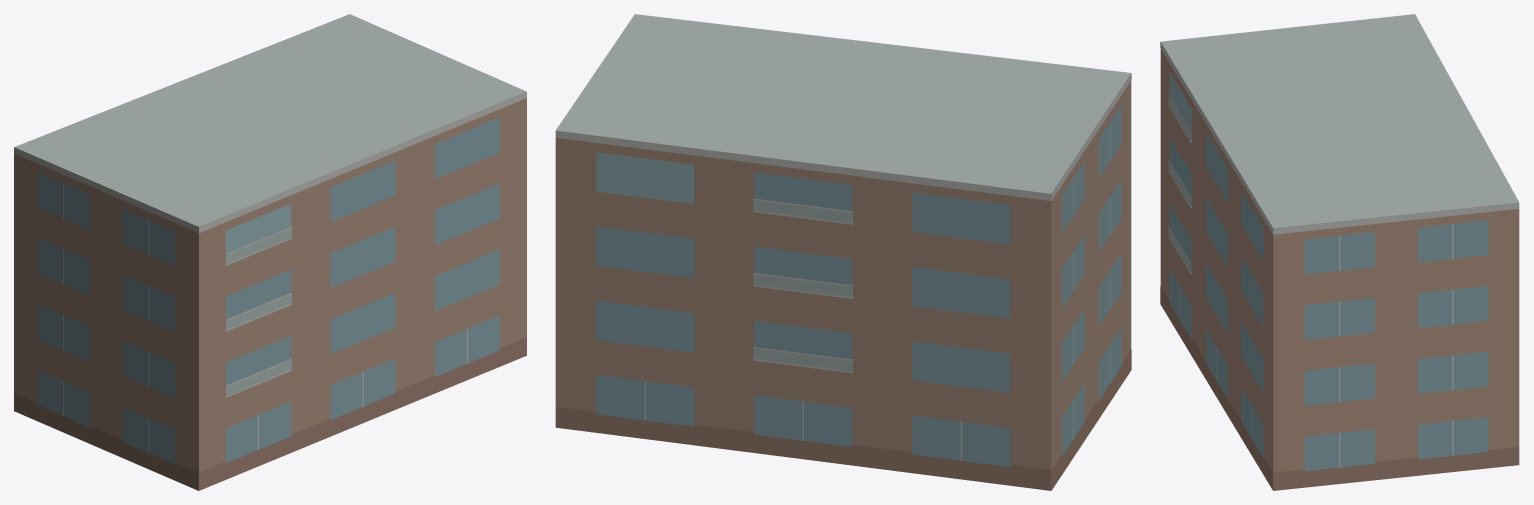
The model's file is survey-upis-32751859.glb.
3 views of the same model, side by side, from view 1: azimuth 30°, elevation 25°; view 2: azimuth 150°, elevation 25°; view 3: azimuth 270°, elevation 25° (orthographic). The views are drawn at different scales.
Visible parts, largest first — view 1: survey-upis-32751859.tmp; view 2: survey-upis-32751859.tmp; view 3: survey-upis-32751859.tmp.
Boxes of the visible parts, x1,y1,x2,y2 form: survey-upis-32751859.tmp: [14, 14, 526, 490]; survey-upis-32751859.tmp: [555, 14, 1131, 490]; survey-upis-32751859.tmp: [1160, 14, 1519, 490].
Size of the model in its own units: 17.69 by 10.1 by 12.52.
